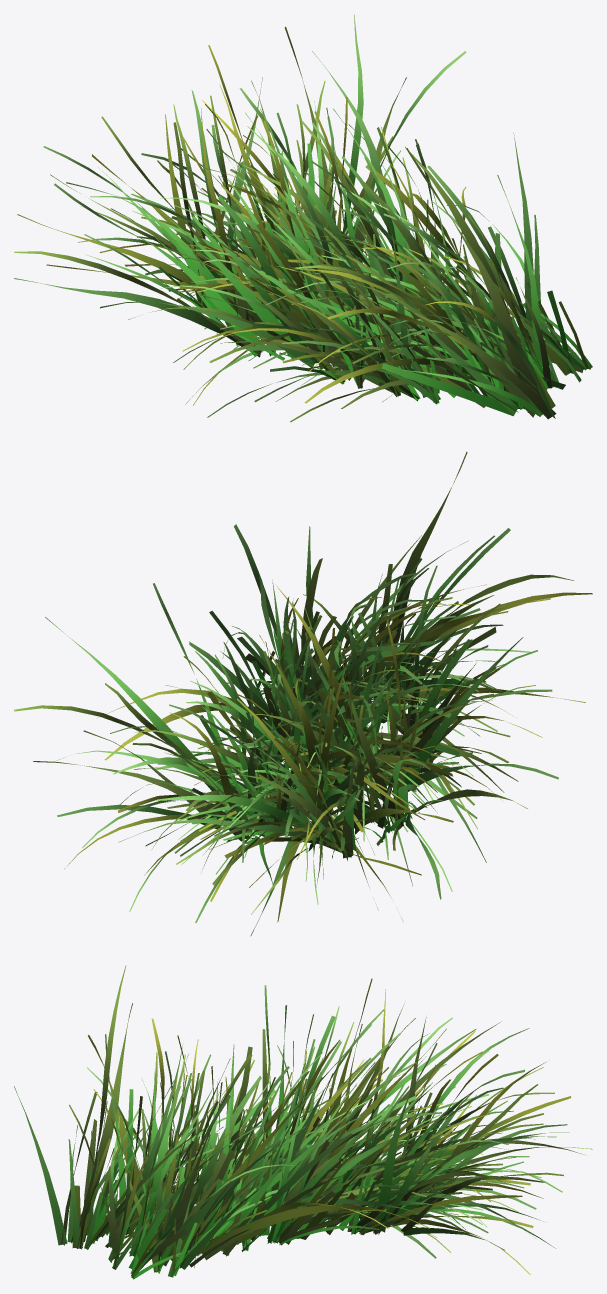
Rendered from plant_34.fbx.
3 views of the same model, one above another, from view 1: azimuth 30°, elevation 25°; view 2: azimuth 150°, elevation 25°; view 3: azimuth 270°, elevation 25° (orthographic). The views are drawn at different scales.
Visible parts, largest first — view 1: grassOrnament1Main; view 2: grassOrnament1Main; view 3: grassOrnament1Main.
Part boxes in pixels (x1=…): grassOrnament1Main: x1=14, y1=14, x2=592, y2=422; grassOrnament1Main: x1=14, y1=451, x2=592, y2=936; grassOrnament1Main: x1=14, y1=965, x2=592, y2=1279.
Bounding box in the file's own units: 26.57 × 18.69 × 33.23.
